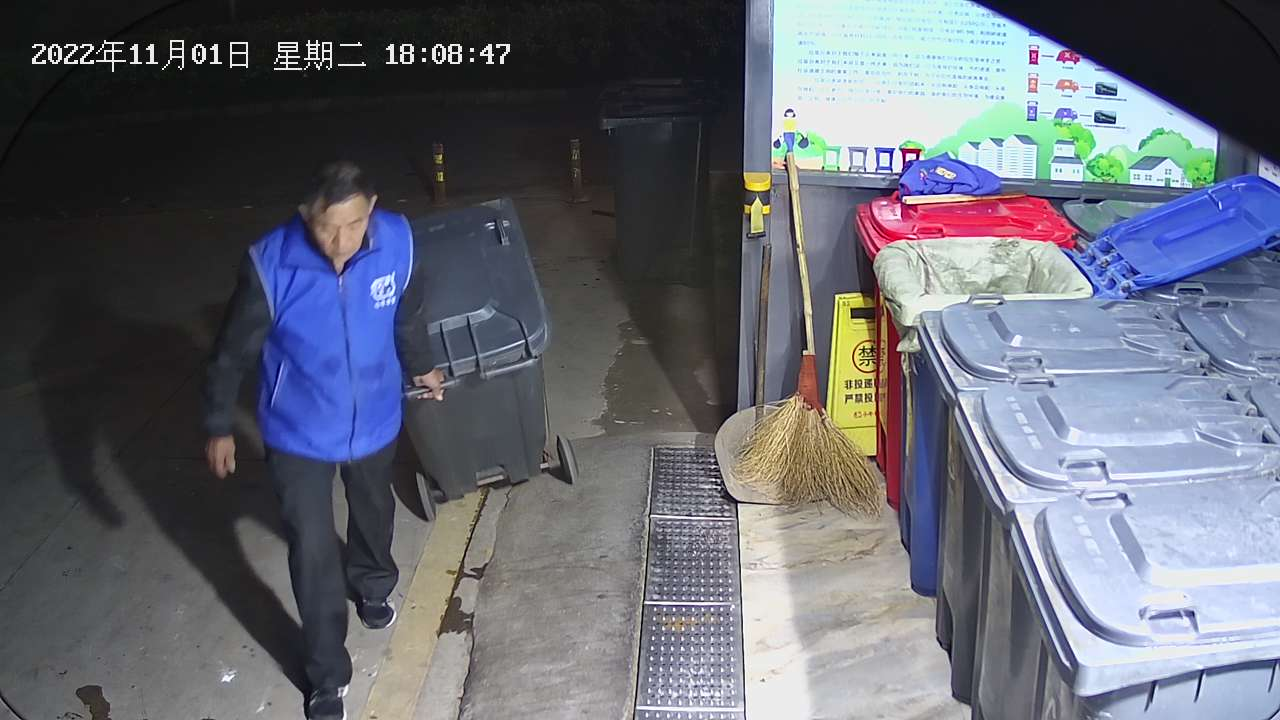worker: (200, 156, 448, 720)
